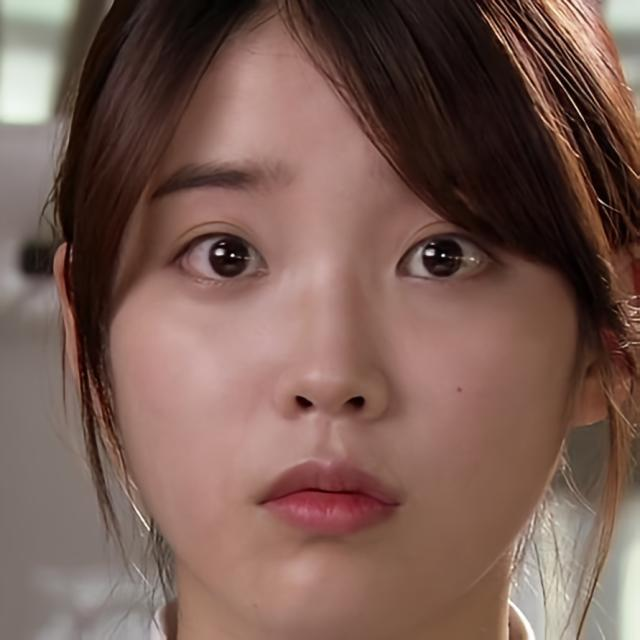fear: (100, 0, 579, 638)
